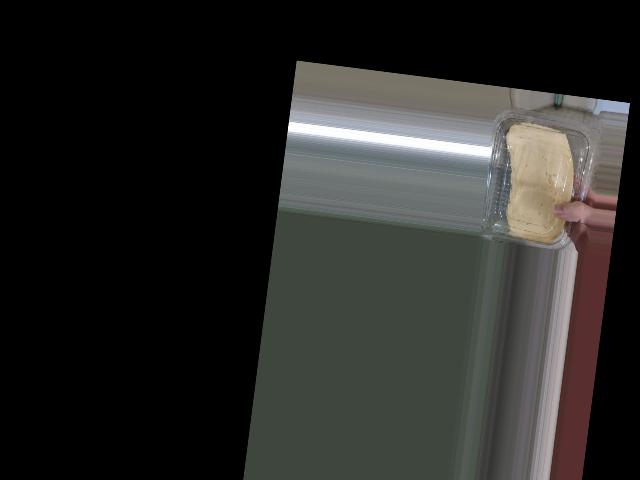cheese: (478, 105, 588, 252)
